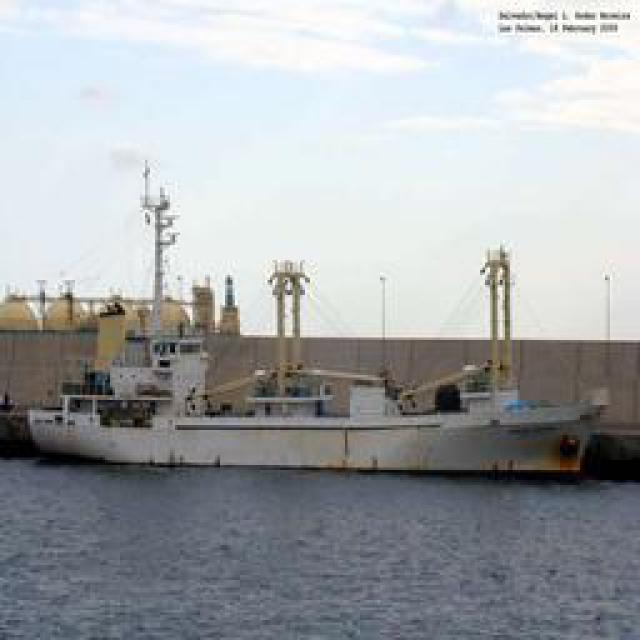Ship: (10, 350, 633, 483)
